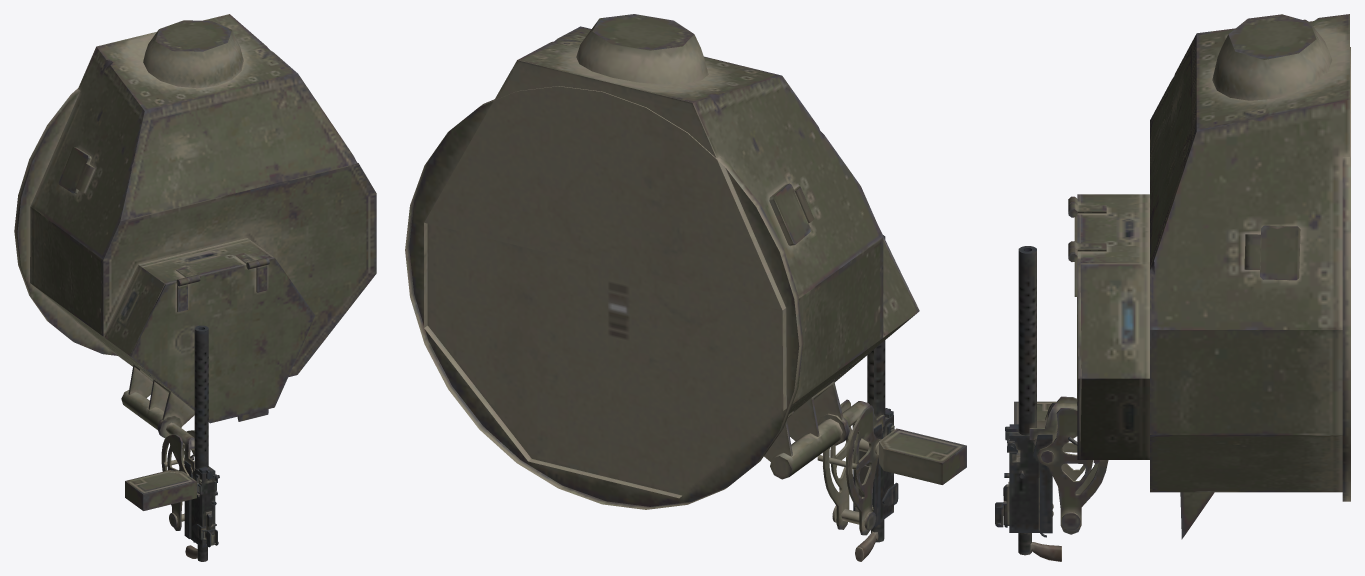
Rendered from Turret_01.glb.
3 renders of one model, left to right at view 1: azimuth 30°, elevation 25°; view 2: azimuth 150°, elevation 25°; view 3: azimuth 270°, elevation 25°, orthographic. The views are drawn at different scales.
Parts seen in each view (by area): view 1: set_0_group_0; view 2: set_0_group_0; view 3: set_0_group_0.
Part boxes in pixels (box(x1,y1,x2,y2)): set_0_group_0: box(14, 14, 376, 561); set_0_group_0: box(405, 14, 966, 561); set_0_group_0: box(995, 14, 1350, 561).
Size of the model in its own units: 1.38 by 1.94 by 1.08.
Materials: 1 (1 with a texture image).
